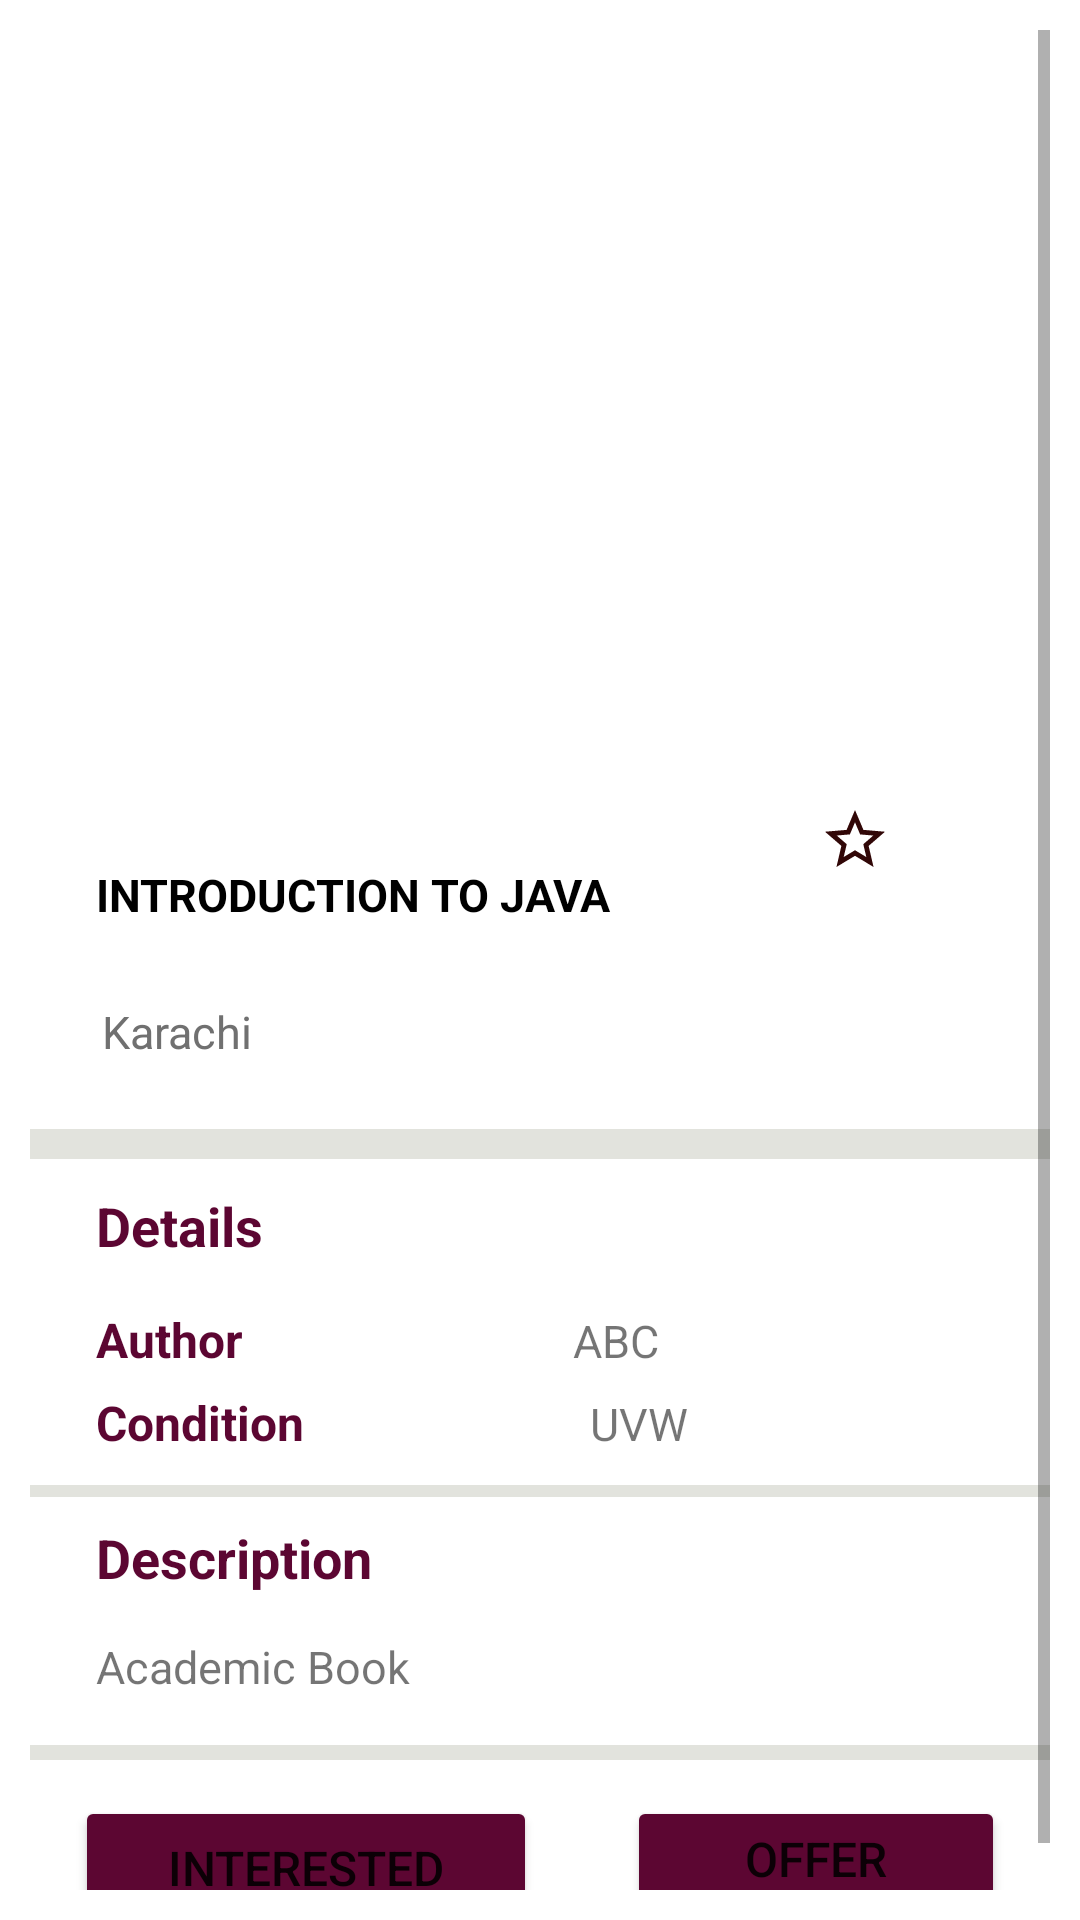

Where to tap for icons on this 1080px×1920px app screen, as point (x, y):
star: point (855, 838)
